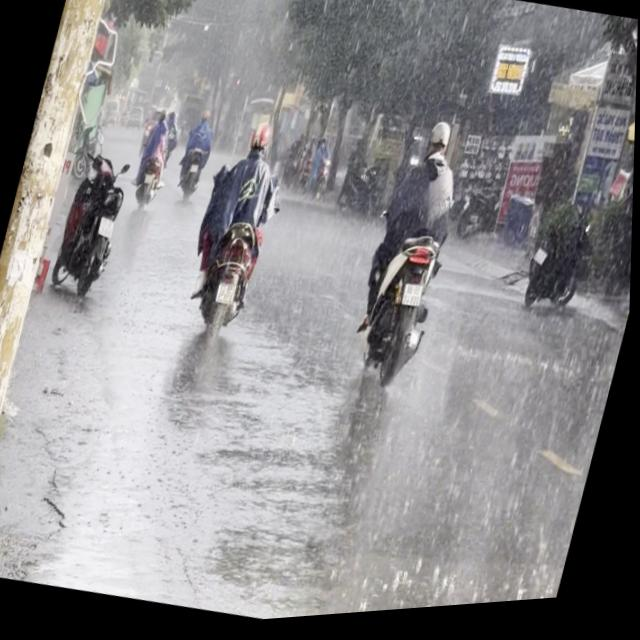helmet: (425, 123, 456, 164), (248, 120, 276, 158)
licenseplate: (342, 112, 481, 398), (175, 109, 298, 352)
nohelmet: (402, 285, 425, 312), (216, 282, 239, 307)
